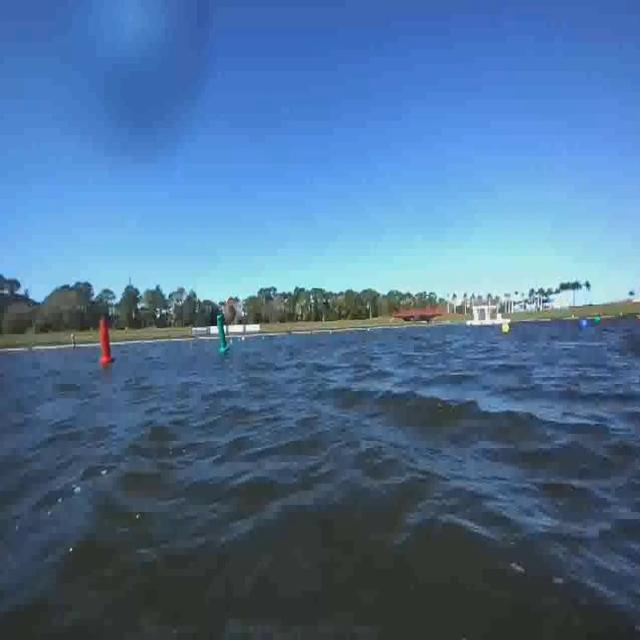green-column-buoy: (211, 305, 231, 353)
red-column-buoy: (91, 296, 121, 374)
